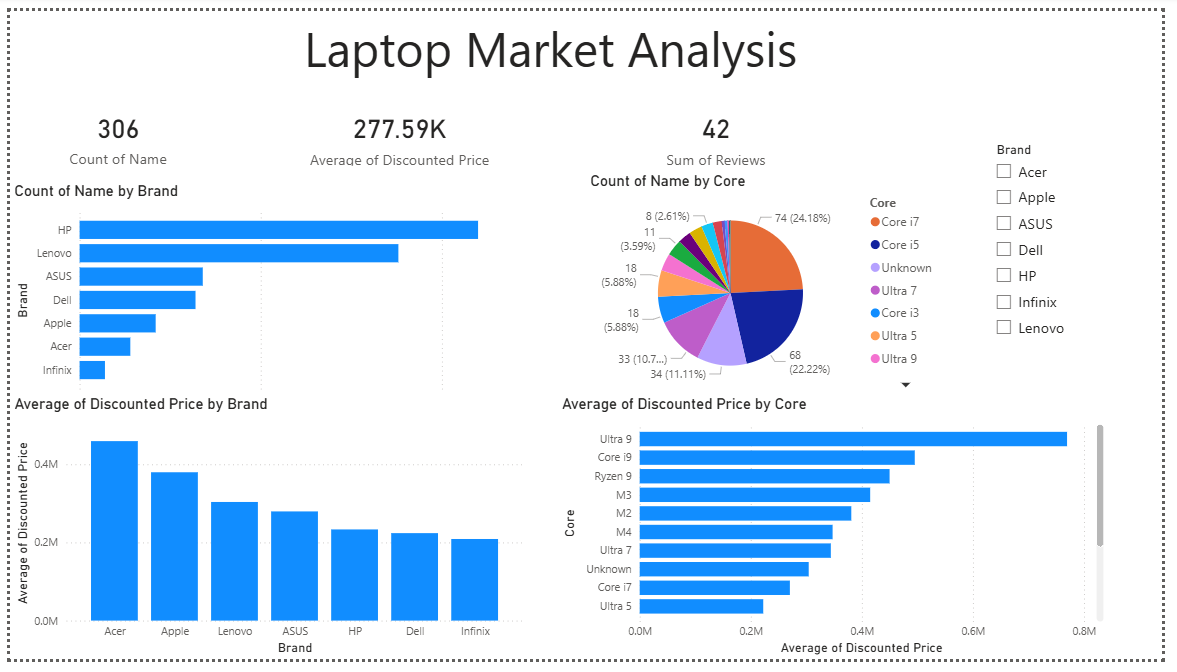

What the dashboard file says about the page in this screenshot:
{"tool":"powerbi","page":{"name":"Page 1","canvas":[1280,720],"ordinal":0},"visuals":[{"type":"clusteredBarChart","fields":{"Category":["priceoye_laptops_version_2.Brand"],"Y":["CountNonNull(priceoye_laptops_version_2.Name)"]},"box":[0,190,575,271.7],"z":0},{"type":"textbox","box":[321.7,0,573.3,100],"z":1},{"type":"card","fields":{"Values":["Count(priceoye_laptops_version_2.Name)"]},"box":[50,100,140,78.3],"z":2},{"type":"card","fields":{"Values":["Avg(priceoye_laptops_version_2.Discounted Price)"]},"box":[321.7,103.3,221.7,73.3],"z":3},{"type":"card","fields":{"Values":["Sum(priceoye_laptops_version_2.Reviews)"]},"box":[673.3,103.3,221.7,73.3],"z":4},{"type":"clusteredColumnChart","fields":{"Y":["Avg(priceoye_laptops_version_2.Discounted Price)"],"Category":["priceoye_laptops_version_2.Brand"]},"box":[0,426.7,575,293.3],"z":5},{"type":"pieChart","fields":{"Category":["priceoye_laptops_version_2.Core"],"Y":["CountNonNull(priceoye_laptops_version_2.Name)"]},"box":[640,178.3,398.3,250],"z":6},{"type":"clusteredBarChart","fields":{"Category":["priceoye_laptops_version_2.Core"],"Y":["Avg(priceoye_laptops_version_2.Discounted Price)"]},"box":[608.3,426.7,611.7,293.3],"z":7},{"type":"slicer","fields":{"Values":["priceoye_laptops_version_2.Brand"]},"box":[1083.3,140,196.7,300],"z":8}]}

Visuals, with their boxes in screenshot pixels (x1, y1, x2, y2), scaled from the page's 1280x720 canvas onto the 1177x672 screenshot:
clusteredBarChart - priceoye_laptops_version_2.Brand x CountNonNull(priceoye_laptops_version_2.Name): 0/177/529/431
textbox: 296/0/823/93
card - Count(priceoye_laptops_version_2.Name): 46/93/175/166
card - Avg(priceoye_laptops_version_2.Discounted Price): 296/96/500/165
card - Sum(priceoye_laptops_version_2.Reviews): 619/96/823/165
clusteredColumnChart - Avg(priceoye_laptops_version_2.Discounted Price) x priceoye_laptops_version_2.Brand: 0/398/529/671
pieChart - priceoye_laptops_version_2.Core x CountNonNull(priceoye_laptops_version_2.Name): 588/166/955/400
clusteredBarChart - priceoye_laptops_version_2.Core x Avg(priceoye_laptops_version_2.Discounted Price): 559/398/1122/671
slicer - priceoye_laptops_version_2.Brand: 996/131/1176/411
